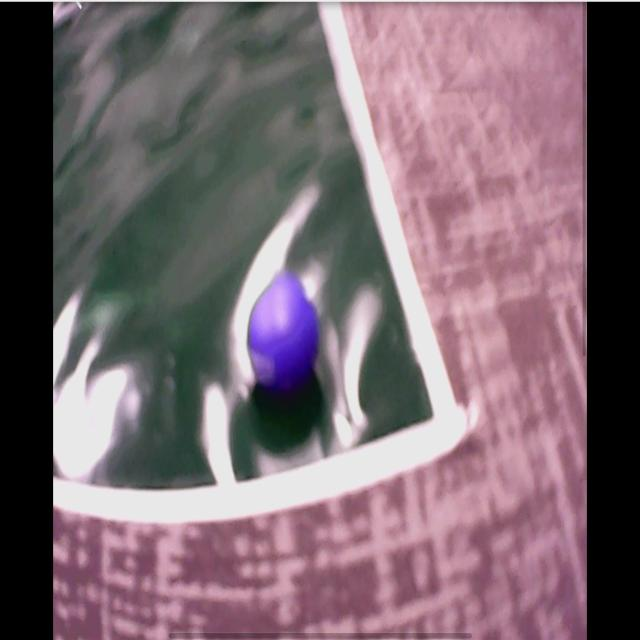ball: (247, 276, 320, 391)
